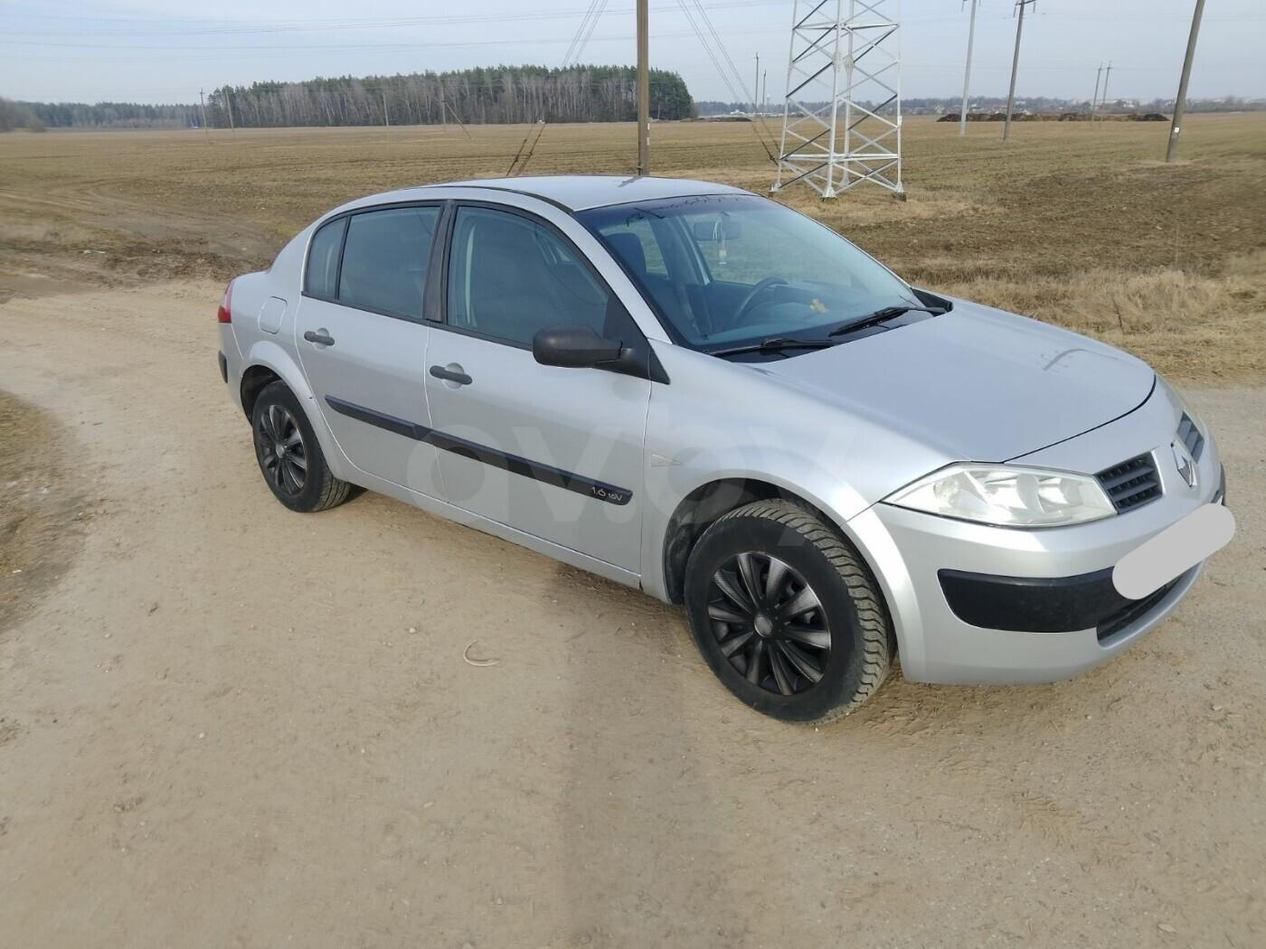Megane_2002-2006: (218, 177, 1235, 714)
